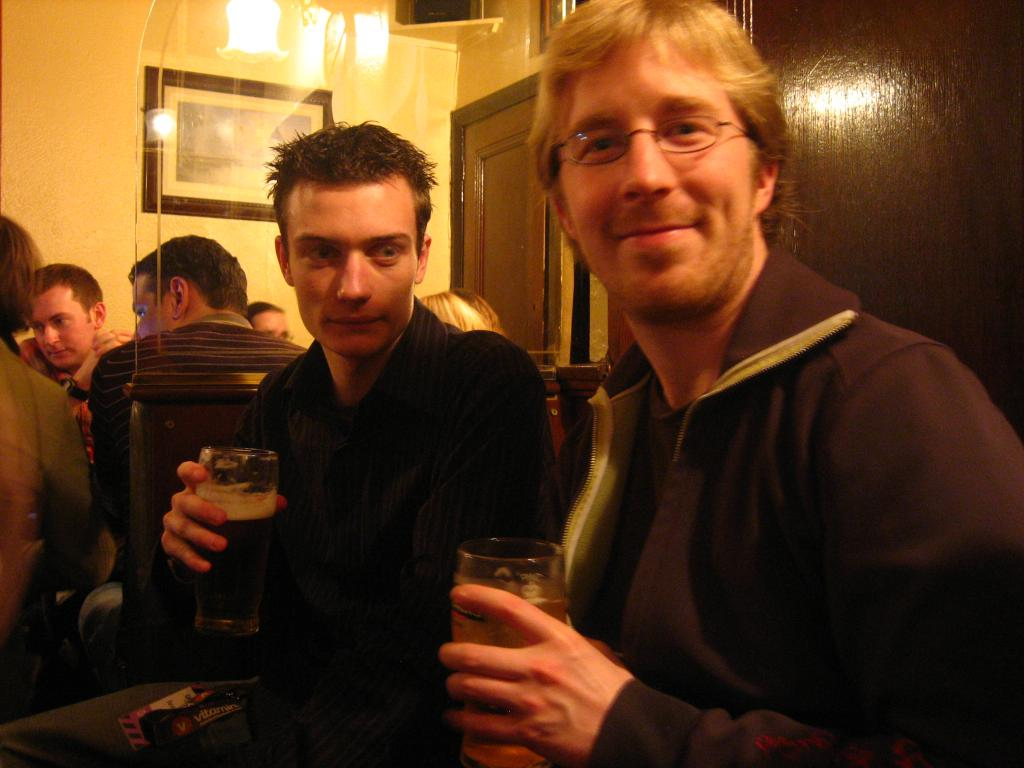Beer: (451, 591, 562, 767), (188, 504, 286, 657)
